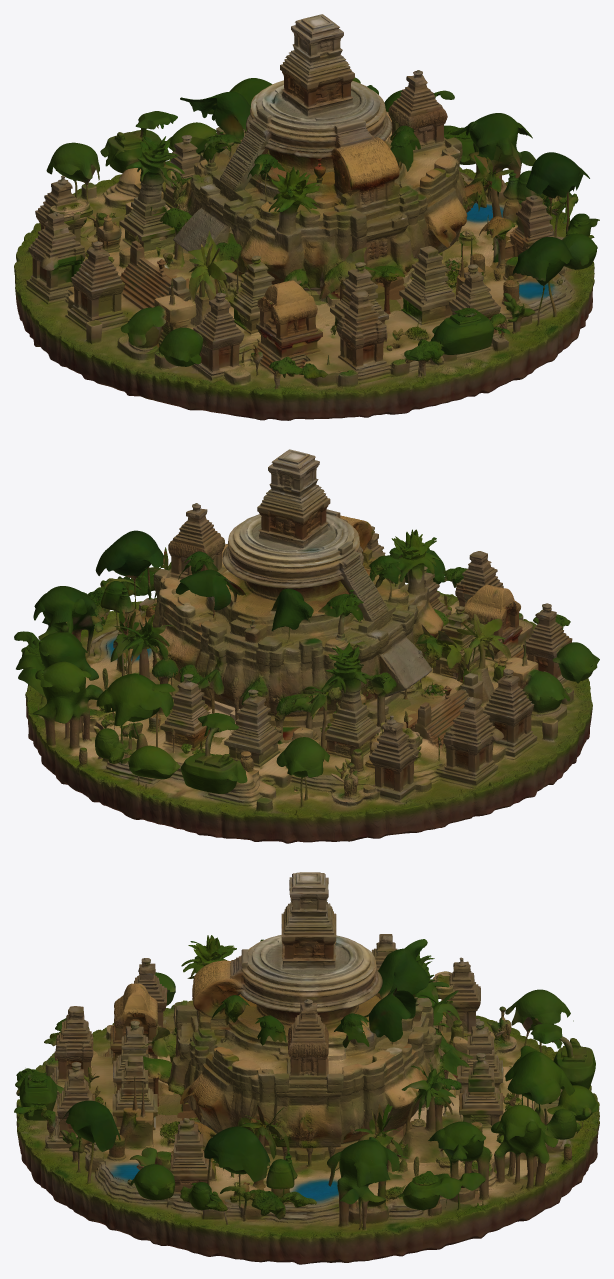
File: city_level3 2.glb
The picture shows the model from 3 angles, top to bottom: view 1: azimuth 30°, elevation 25°; view 2: azimuth 150°, elevation 25°; view 3: azimuth 270°, elevation 25°; orthographic projection. The views are drawn at different scales.
Size of the model in its own units: 1.83 by 0.9705 by 1.84.
1 material, 1 textured.
